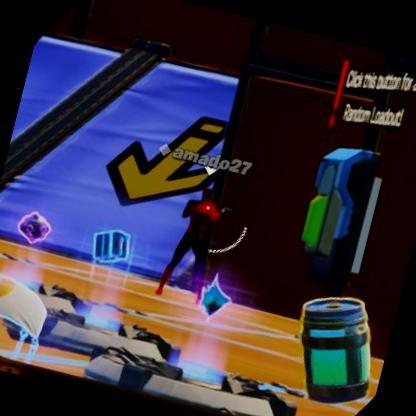person: (154, 178, 230, 304)
